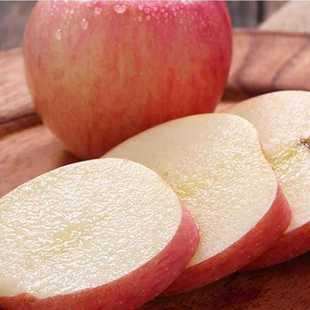apple: (24, 3, 232, 161)
